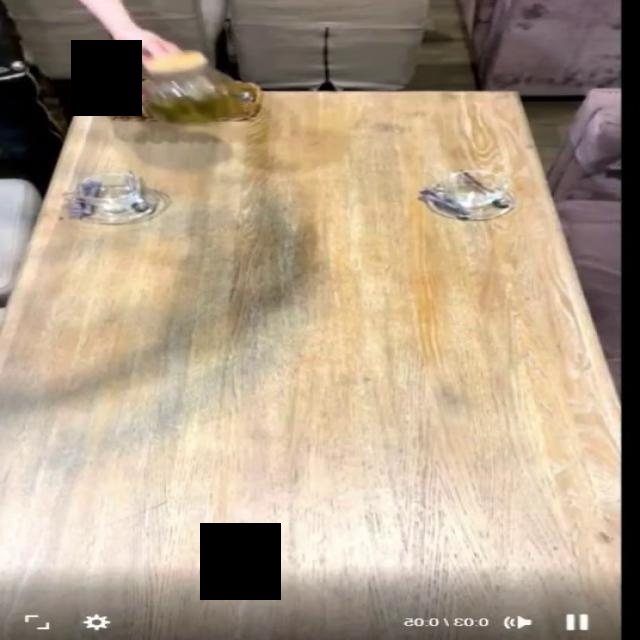tea: (128, 35, 262, 147)
